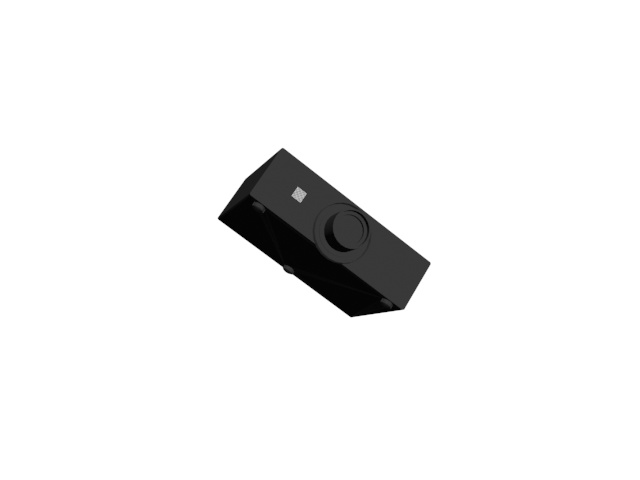projector: (217, 145, 432, 320)
